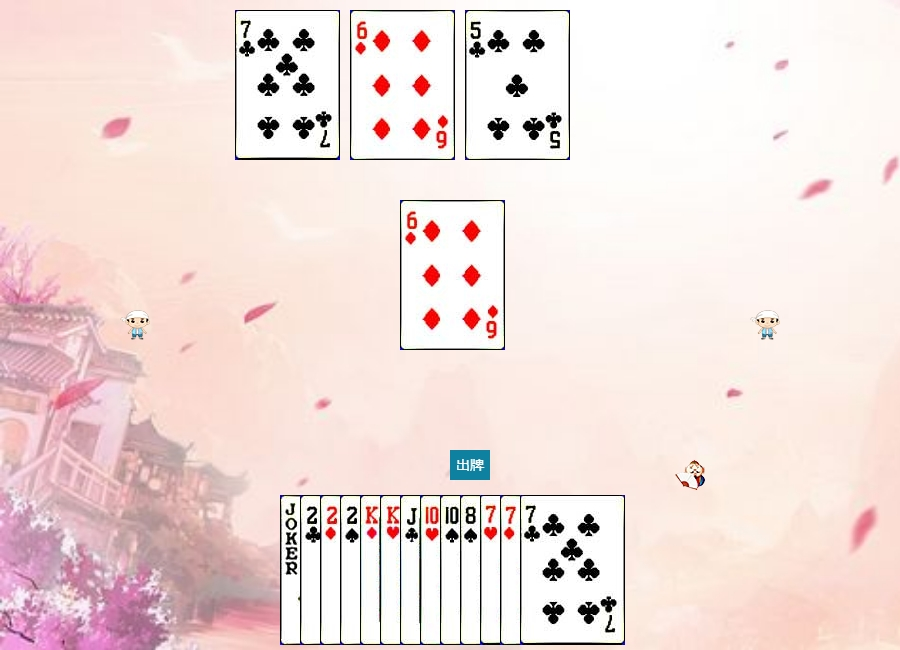10~3: (420, 495, 525, 645)
10~4: (440, 495, 545, 645)
11~2: (400, 495, 505, 645)
13~1: (360, 495, 465, 645)
13~3: (380, 495, 485, 645)
15~1: (320, 495, 425, 645)
15~2: (300, 495, 405, 645)
15~4: (340, 495, 445, 645)
17~3: (280, 495, 385, 645)
5~2: (465, 10, 570, 160)
6~1: (350, 10, 455, 160), (400, 200, 505, 350)
7~1: (500, 495, 605, 645)
7~2: (235, 10, 340, 160), (520, 495, 625, 645)
7~3: (480, 495, 585, 645)
8~4: (460, 495, 565, 645)
